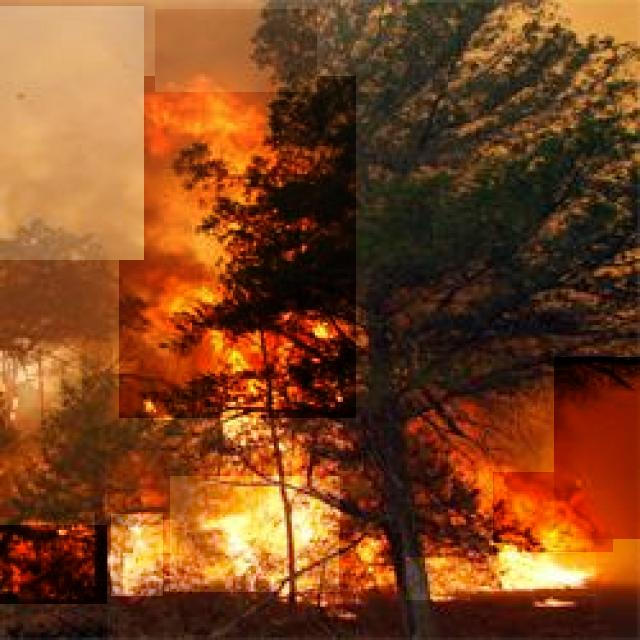Fire: (119, 76, 356, 418), (170, 476, 340, 592), (493, 472, 613, 552), (460, 532, 596, 596), (0, 525, 107, 604), (111, 514, 163, 596), (339, 533, 402, 587), (406, 557, 470, 600)
Smoke: (0, 7, 144, 260), (554, 358, 640, 540), (155, 9, 317, 92)
